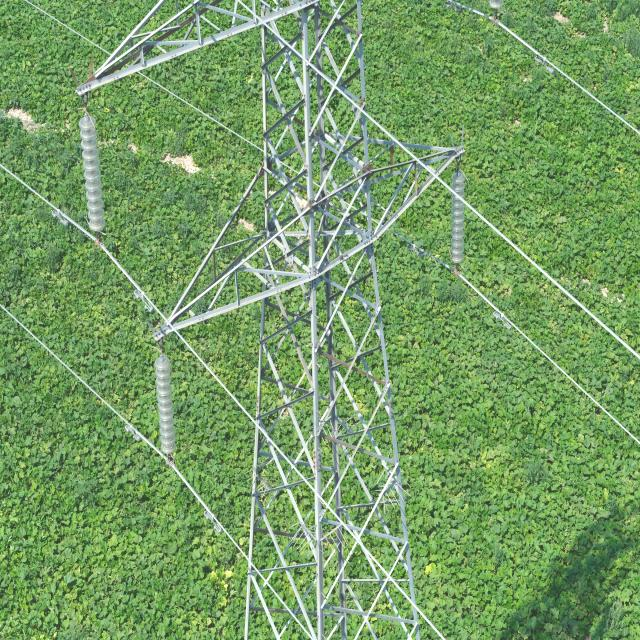voltage_line: (83, 7, 455, 640)
